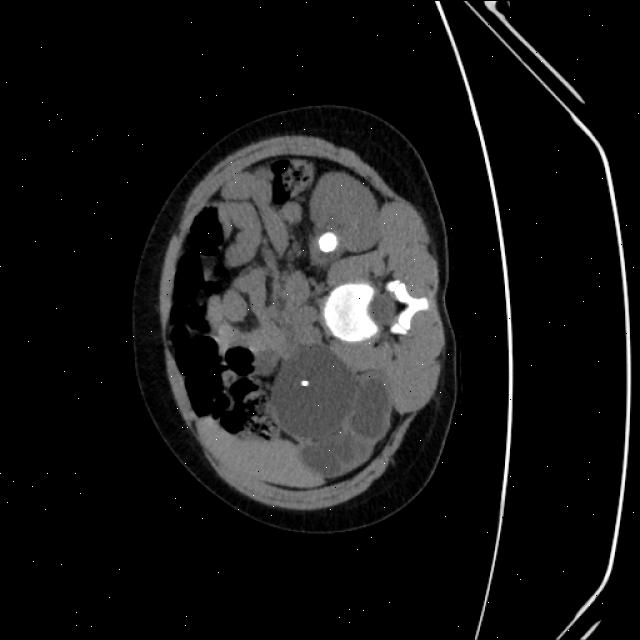kidneystone: (311, 230, 340, 261), (301, 379, 309, 386)
